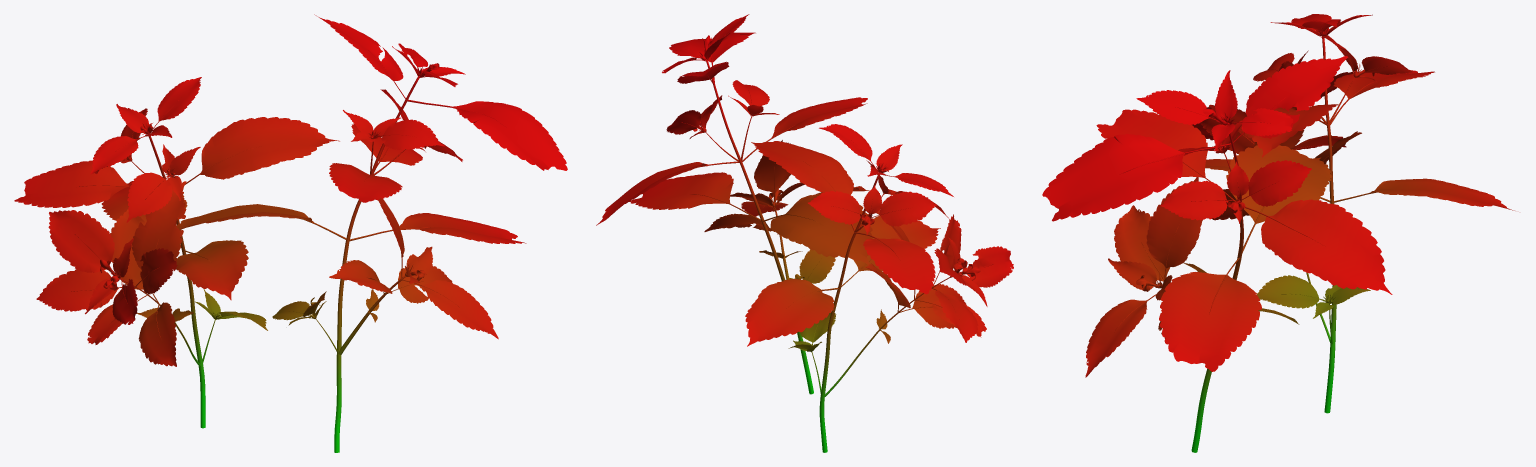
The model's file is Common Hemp Nettle_LOD0_Var3_xh1kdfbqx.fbx.
3 views of the same model, side by side, from view 1: azimuth 30°, elevation 25°; view 2: azimuth 150°, elevation 25°; view 3: azimuth 270°, elevation 25° (orthographic). The views are drawn at different scales.
Parts seen in each view (by area): view 1: _hbd8_Var3_LOD0; view 2: _hbd8_Var3_LOD0; view 3: _hbd8_Var3_LOD0.
Part boxes in pixels (x1,y1,x2,y2): _hbd8_Var3_LOD0: [14, 14, 567, 452]; _hbd8_Var3_LOD0: [596, 14, 1013, 452]; _hbd8_Var3_LOD0: [1042, 14, 1514, 452].
Bounding box in the file's own units: 58.41 × 50.01 × 51.61.
